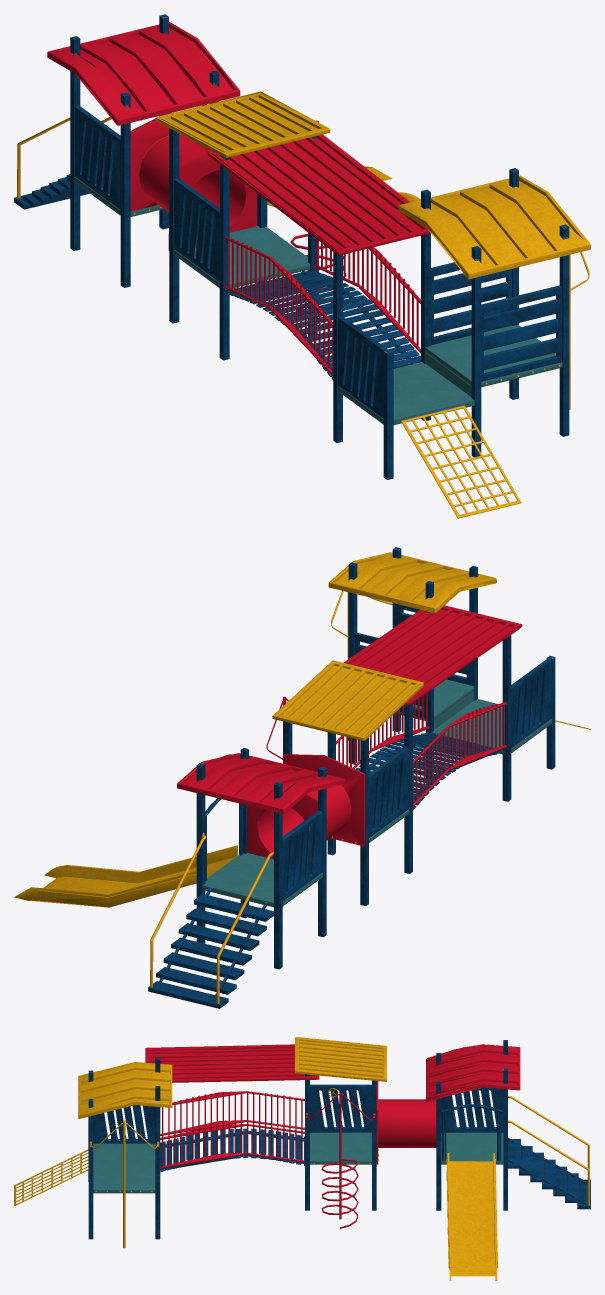
File: slide_large.glb
3 views of the same model, one above another, from view 1: azimuth 30°, elevation 25°; view 2: azimuth 150°, elevation 25°; view 3: azimuth 270°, elevation 25° (orthographic). The views are drawn at different scales.
Visible parts, largest first — view 1: Jhula1_Jhula_0.001, Jhula1; view 2: Jhula1_Jhula_0.001, Jhula1; view 3: Jhula1_Jhula_0.001, Jhula1.
Boxes of the visible parts, x1,y1,x2,y2 form: Jhula1_Jhula_0.001: [14, 14, 569, 479]; Jhula1: [17, 22, 590, 518]; Jhula1_Jhula_0.001: [148, 547, 555, 1008]; Jhula1: [14, 552, 590, 1003]; Jhula1_Jhula_0.001: [88, 1040, 590, 1239]; Jhula1: [14, 1037, 589, 1280].
Size of the model in its own units: 4 by 2.7 by 9.22.
Materials: 1 (1 with a texture image).
